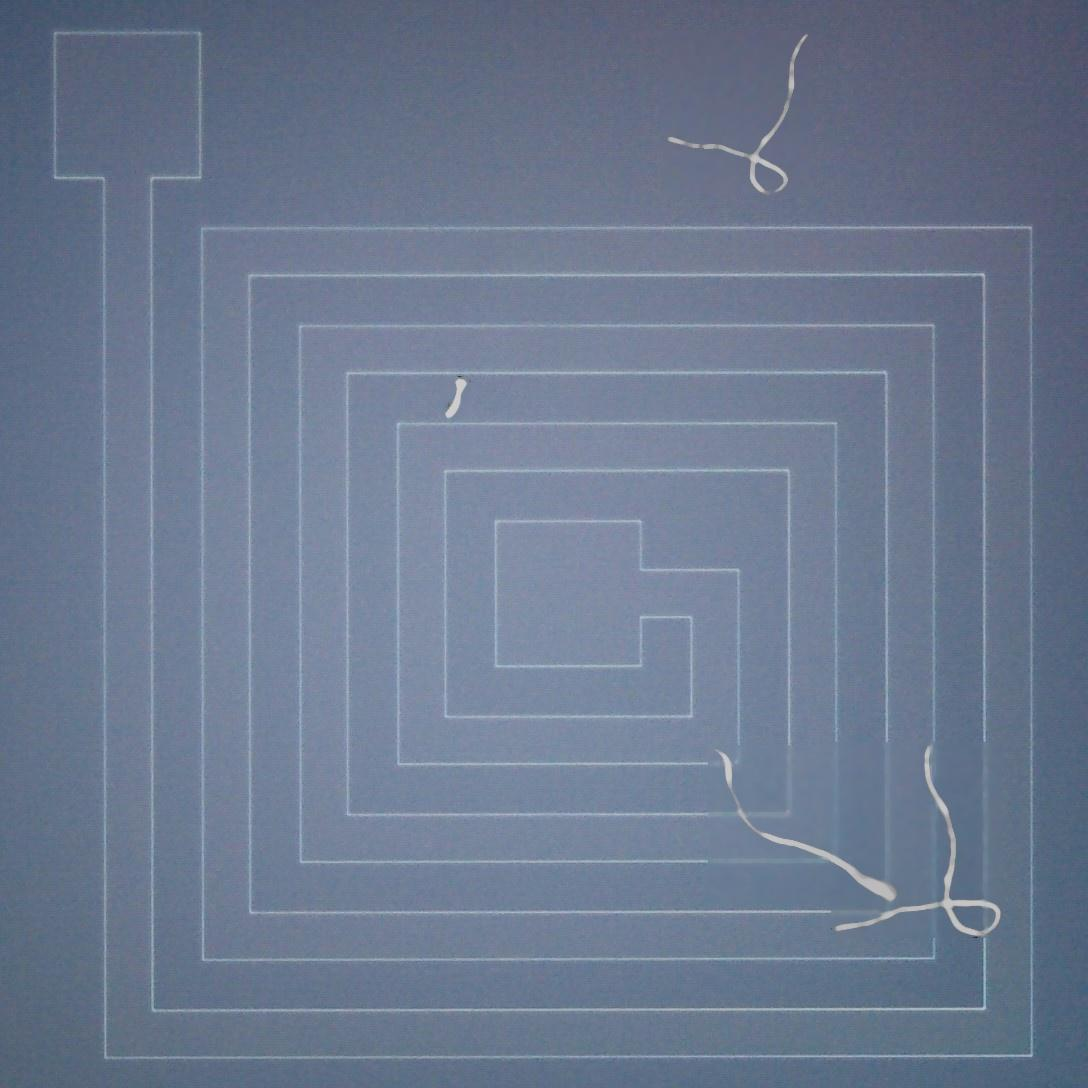foreign: (828, 741, 1016, 941), (712, 746, 904, 906), (654, 29, 816, 197), (437, 374, 474, 427)
